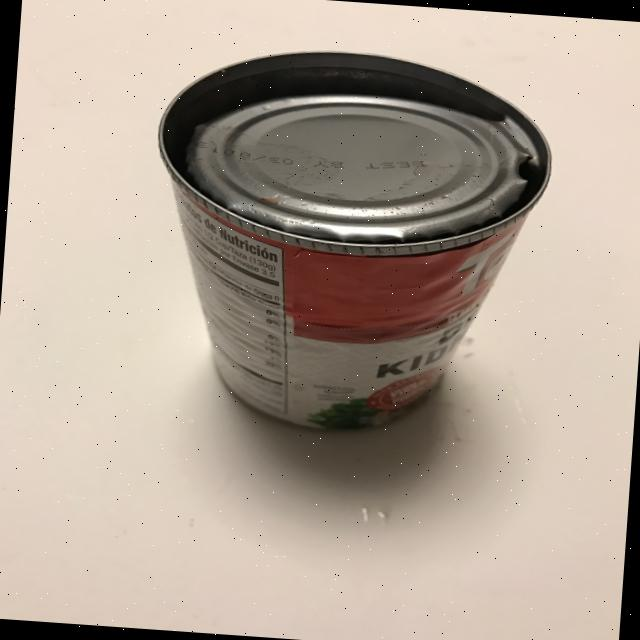metal: (136, 37, 559, 444)
